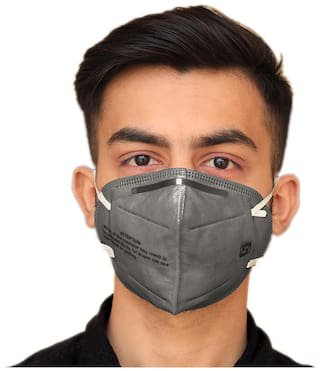mask: (58, 10, 309, 329)
